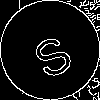S: (25, 25, 76, 82)
